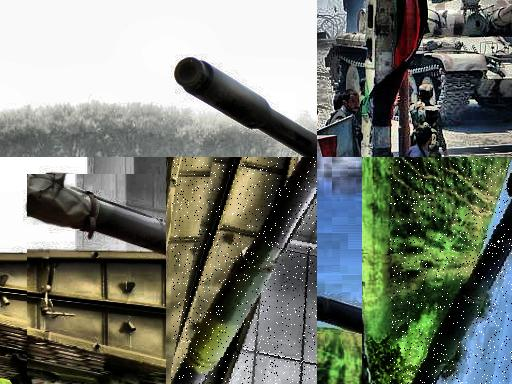tanks: (173, 158, 318, 384), (413, 176, 512, 384), (176, 59, 318, 158), (408, 1, 512, 123), (328, 33, 368, 89), (362, 315, 372, 384)
